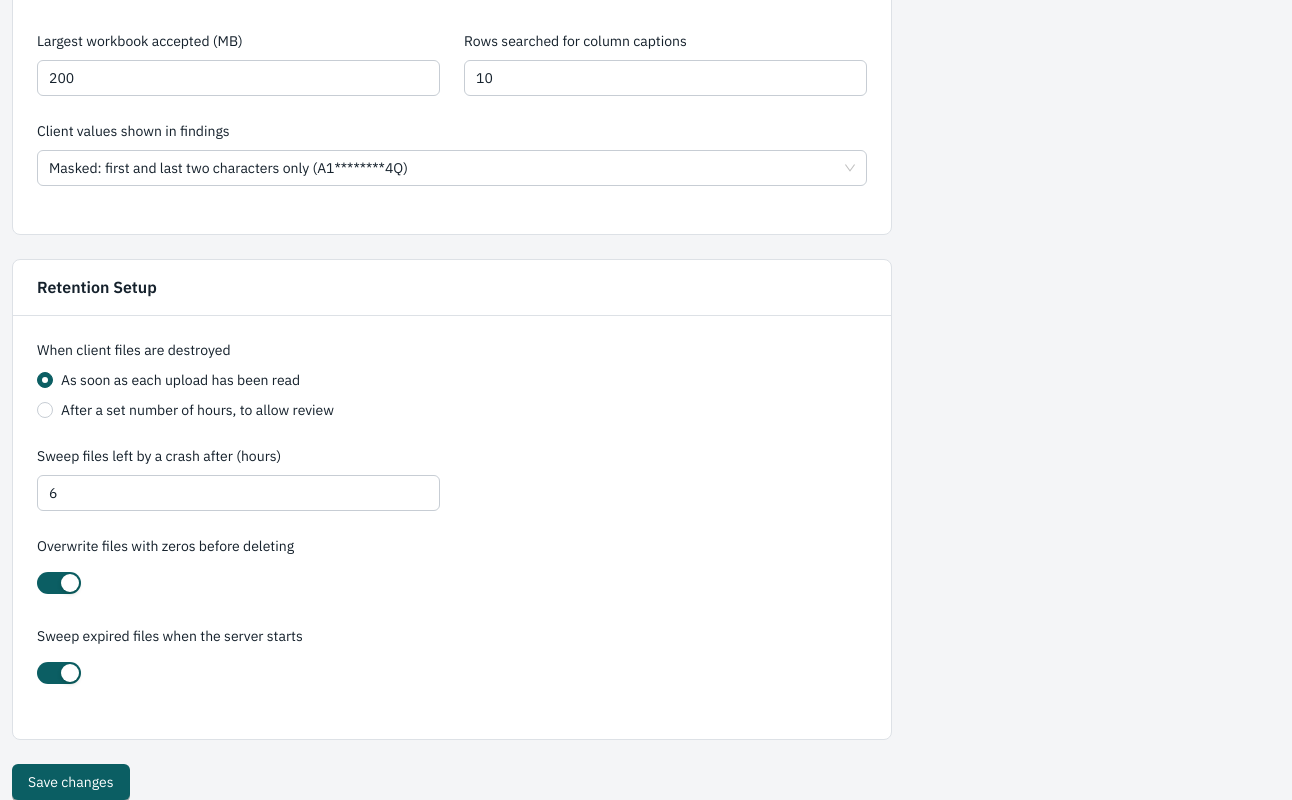
Test: DataBridge and retention setup › shows the server's reason when a save is refused
(page scrolled)
expect the number field showing "200" is shown: met, box [38,61,439,95]
Click the button "Save changes" at (71, 782), box [12,764,130,799]
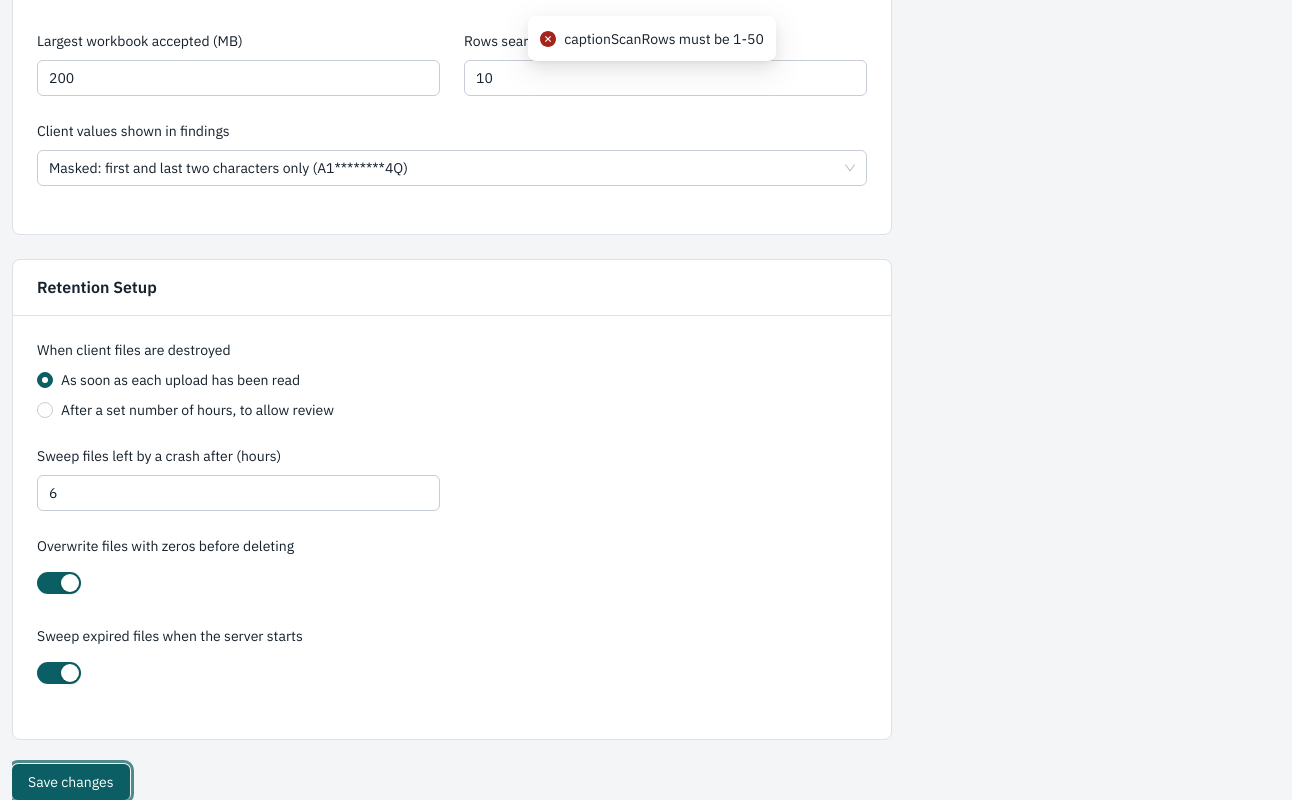
expect the text "captionScanRows must be 1-50" is shown: met, box [564,28,764,50]
